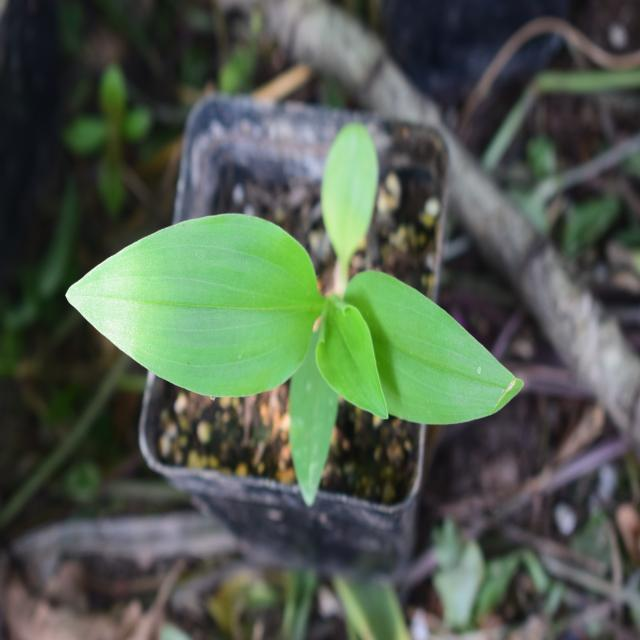Common Dayflower: (94, 155, 511, 468)
